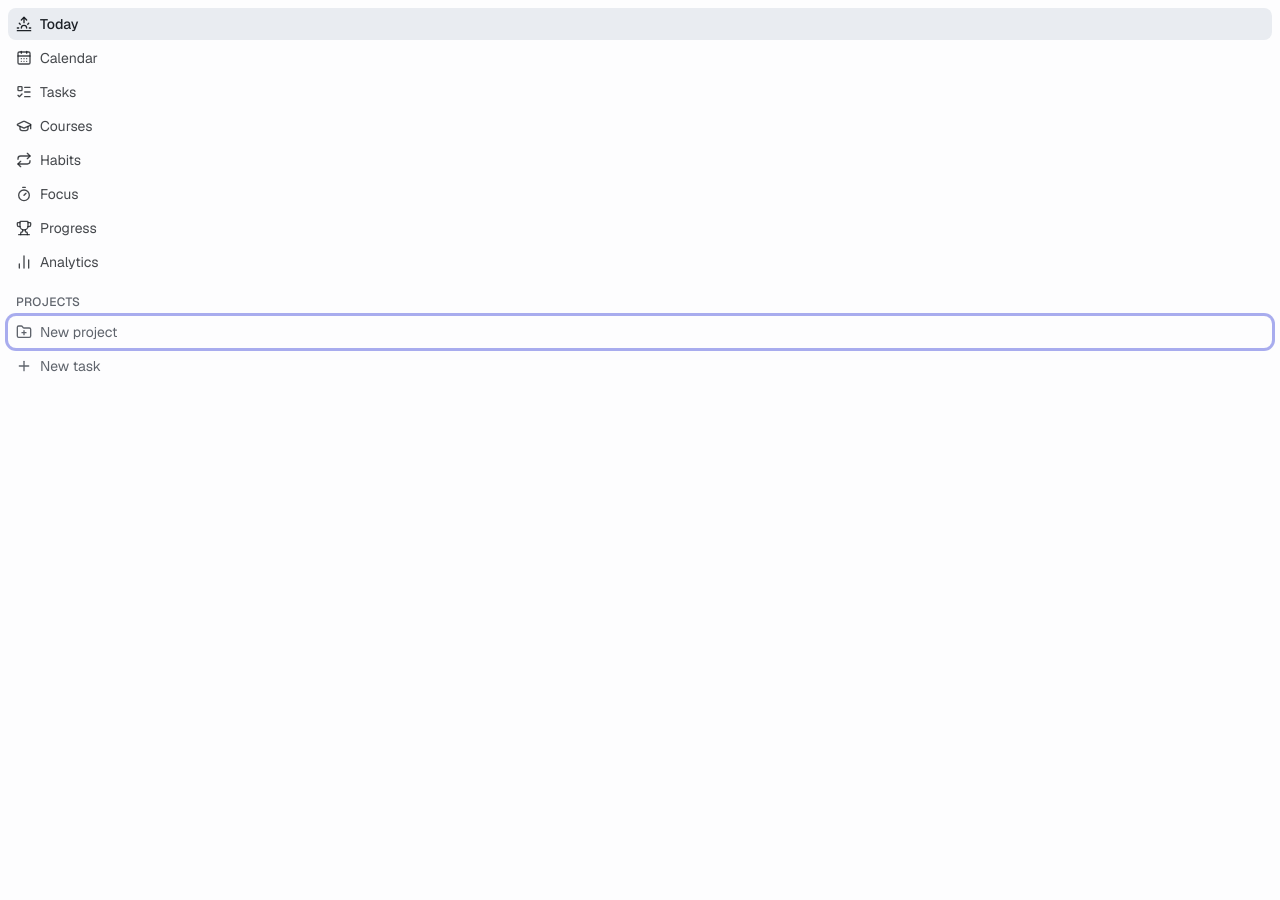
Scenario: creating a project › offers one New project row in place of an empty list, which opens the same dialog
The width and height of the screenshot is (1280, 900).
Click the button "New project".
click(79, 332)  # box [8,316,1272,348]
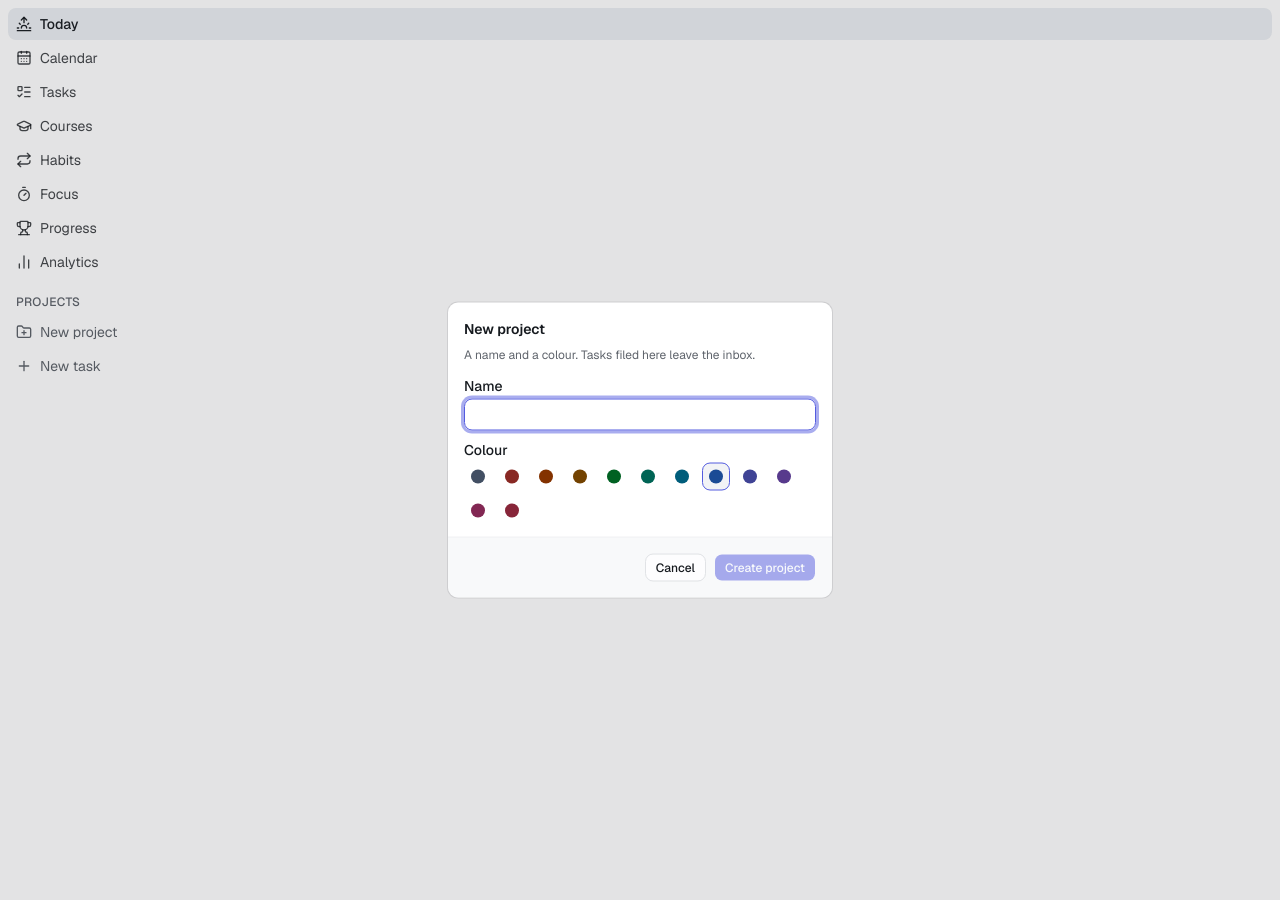
Expected: the dialog "New project" is shown
Press Escape in the dialog, box [448,302,832,598]
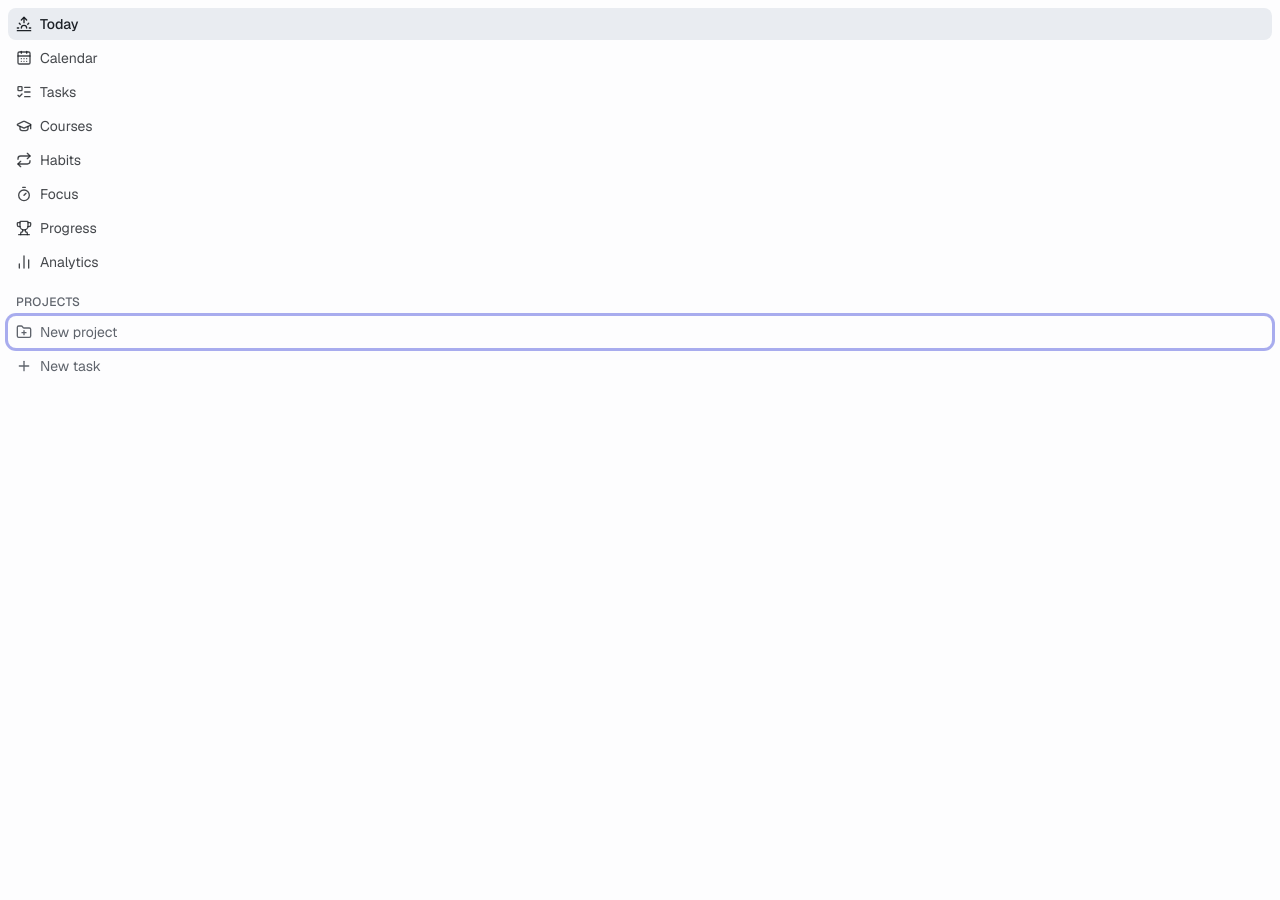
Expected: the dialog is gone
